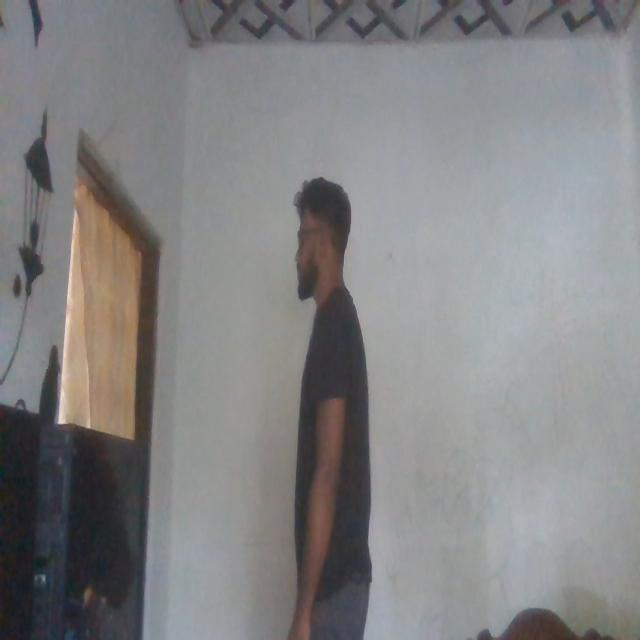Person: (271, 178, 405, 640)
